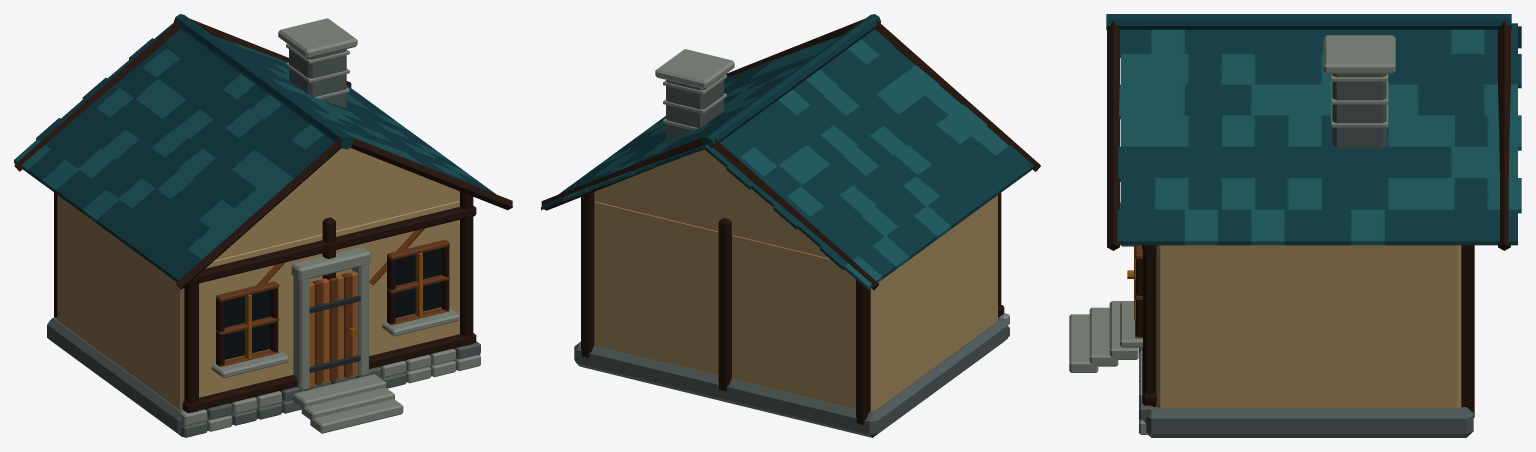
Rendered from Casa_do_artesao_LOD0.fbx.
3 renders of one model, left to right at view 1: azimuth 30°, elevation 25°; view 2: azimuth 150°, elevation 25°; view 3: azimuth 270°, elevation 25°, orthographic. The views are drawn at different scales.
Visible parts, largest first — view 1: Casa_do_artesao_LOD0; view 2: Casa_do_artesao_LOD0; view 3: Casa_do_artesao_LOD0.
Part boxes in pixels (left/top/right/bottom): Casa_do_artesao_LOD0: left=14, top=14, right=512, bottom=437; Casa_do_artesao_LOD0: left=541, top=14, right=1040, bottom=437; Casa_do_artesao_LOD0: left=1069, top=14, right=1521, bottom=437.
Size of the model in its own units: 649 by 528 by 625.
1 material, 1 textured.
